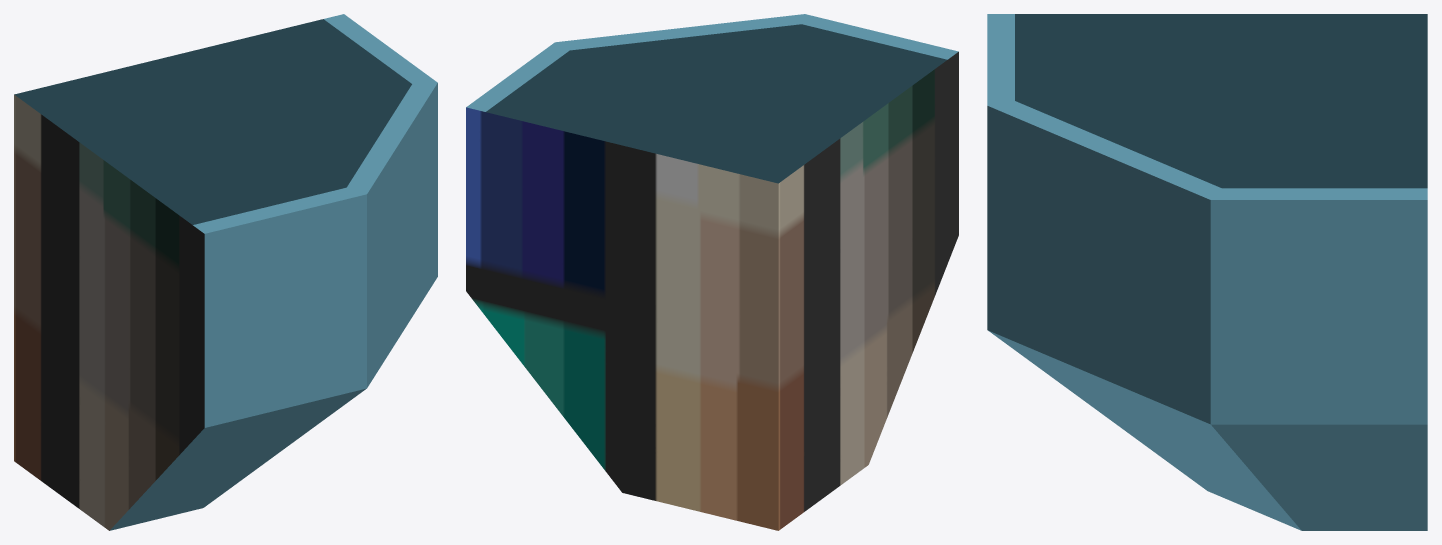
Rendered from tile_7_1_0.gltf.
3 views of the same model, side by side, from view 1: azimuth 30°, elevation 25°; view 2: azimuth 150°, elevation 25°; view 3: azimuth 270°, elevation 25° (orthographic). The views are drawn at different scales.
Parts seen in each view (by area): view 1: arena.floor.corners.056; view 2: arena.floor.corners.056; view 3: arena.floor.corners.056.
Part boxes in pixels (x1,y1,x2,y2): arena.floor.corners.056: (14,14,437,530); arena.floor.corners.056: (466,14,958,530); arena.floor.corners.056: (987,14,1427,530).
Size of the model in its own units: 8 by 8.5 by 8.
Materials: 1 (1 with a texture image).
